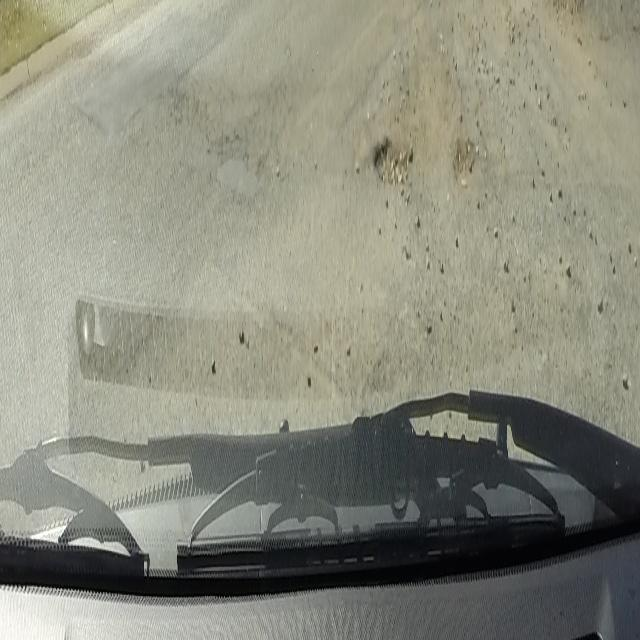pothole: (370, 133, 414, 186), (452, 128, 478, 184)
